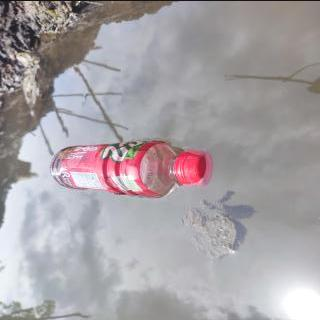bottle: (45, 137, 215, 199)
